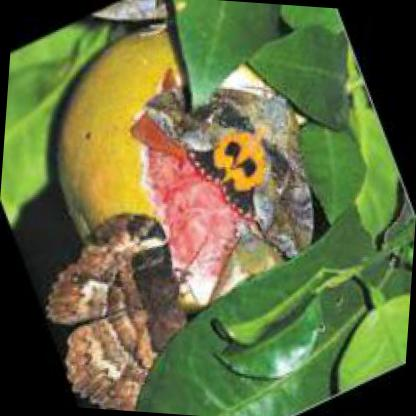fruit sucking moth: (141, 86, 313, 264)
